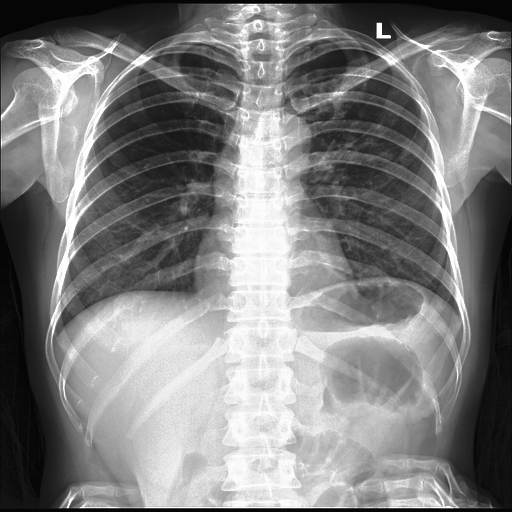ILD: (313, 89, 401, 182)
Other lesion: (377, 148, 393, 162)
Pneumothorax: (296, 82, 413, 186), (343, 99, 396, 163)
Pulmonary fibrosis: (377, 148, 393, 162)
